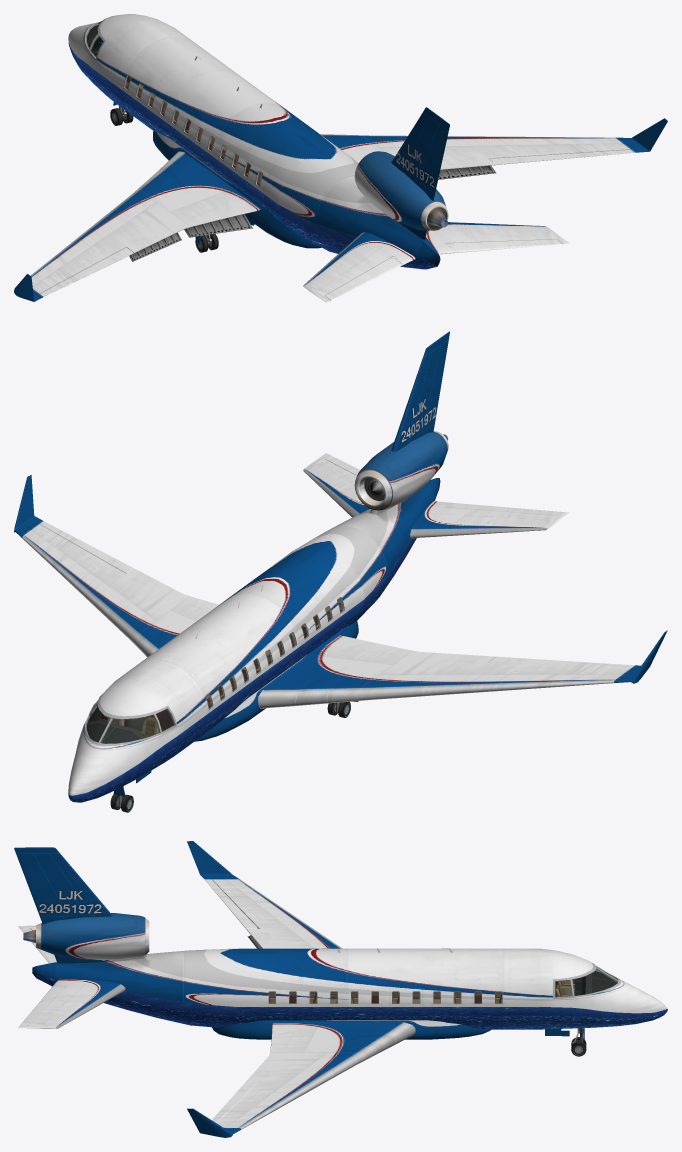
File: jet_1a.glb
3 renders of one model, top to bottom at view 1: azimuth 30°, elevation 25°; view 2: azimuth 150°, elevation 25°; view 3: azimuth 270°, elevation 25°, orthographic. The views are drawn at different scales.
Parts seen in each view (by area): view 1: Object_4, Object_5, Object_17, Object_24, Object_22; view 2: Object_4, Object_5, Object_24, Object_22, Object_17; view 3: Object_4, Object_5, Object_24, Object_22.
Part boxes in pixels (<box>): Object_4: <box>14,14,667,302</box>; Object_5: <box>68,43,436,269</box>; Object_17: <box>263,151,300,220</box>; Object_24: <box>86,20,262,185</box>; Object_22: <box>87,24,262,185</box>; Object_4: <box>14,331,667,812</box>; Object_5: <box>68,489,438,802</box>; Object_24: <box>86,598,343,743</box>; Object_22: <box>87,604,342,743</box>; Object_17: <box>326,557,364,625</box>; Object_4: <box>14,841,667,1137</box>; Object_5: <box>36,975,666,1029</box>; Object_24: <box>269,966,617,1003</box>; Object_22: <box>269,971,617,1003</box>.
Size of the model in its own units: 0.658 by 0.236 by 0.6784.
Materials: 10 (9 with a texture image).
